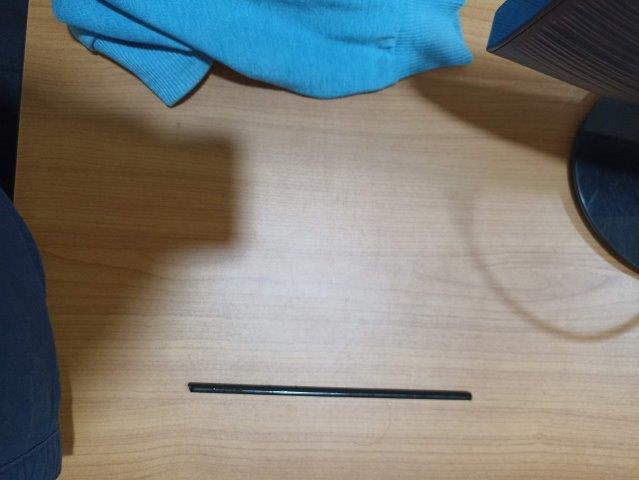sedotan: (188, 383, 472, 400)
